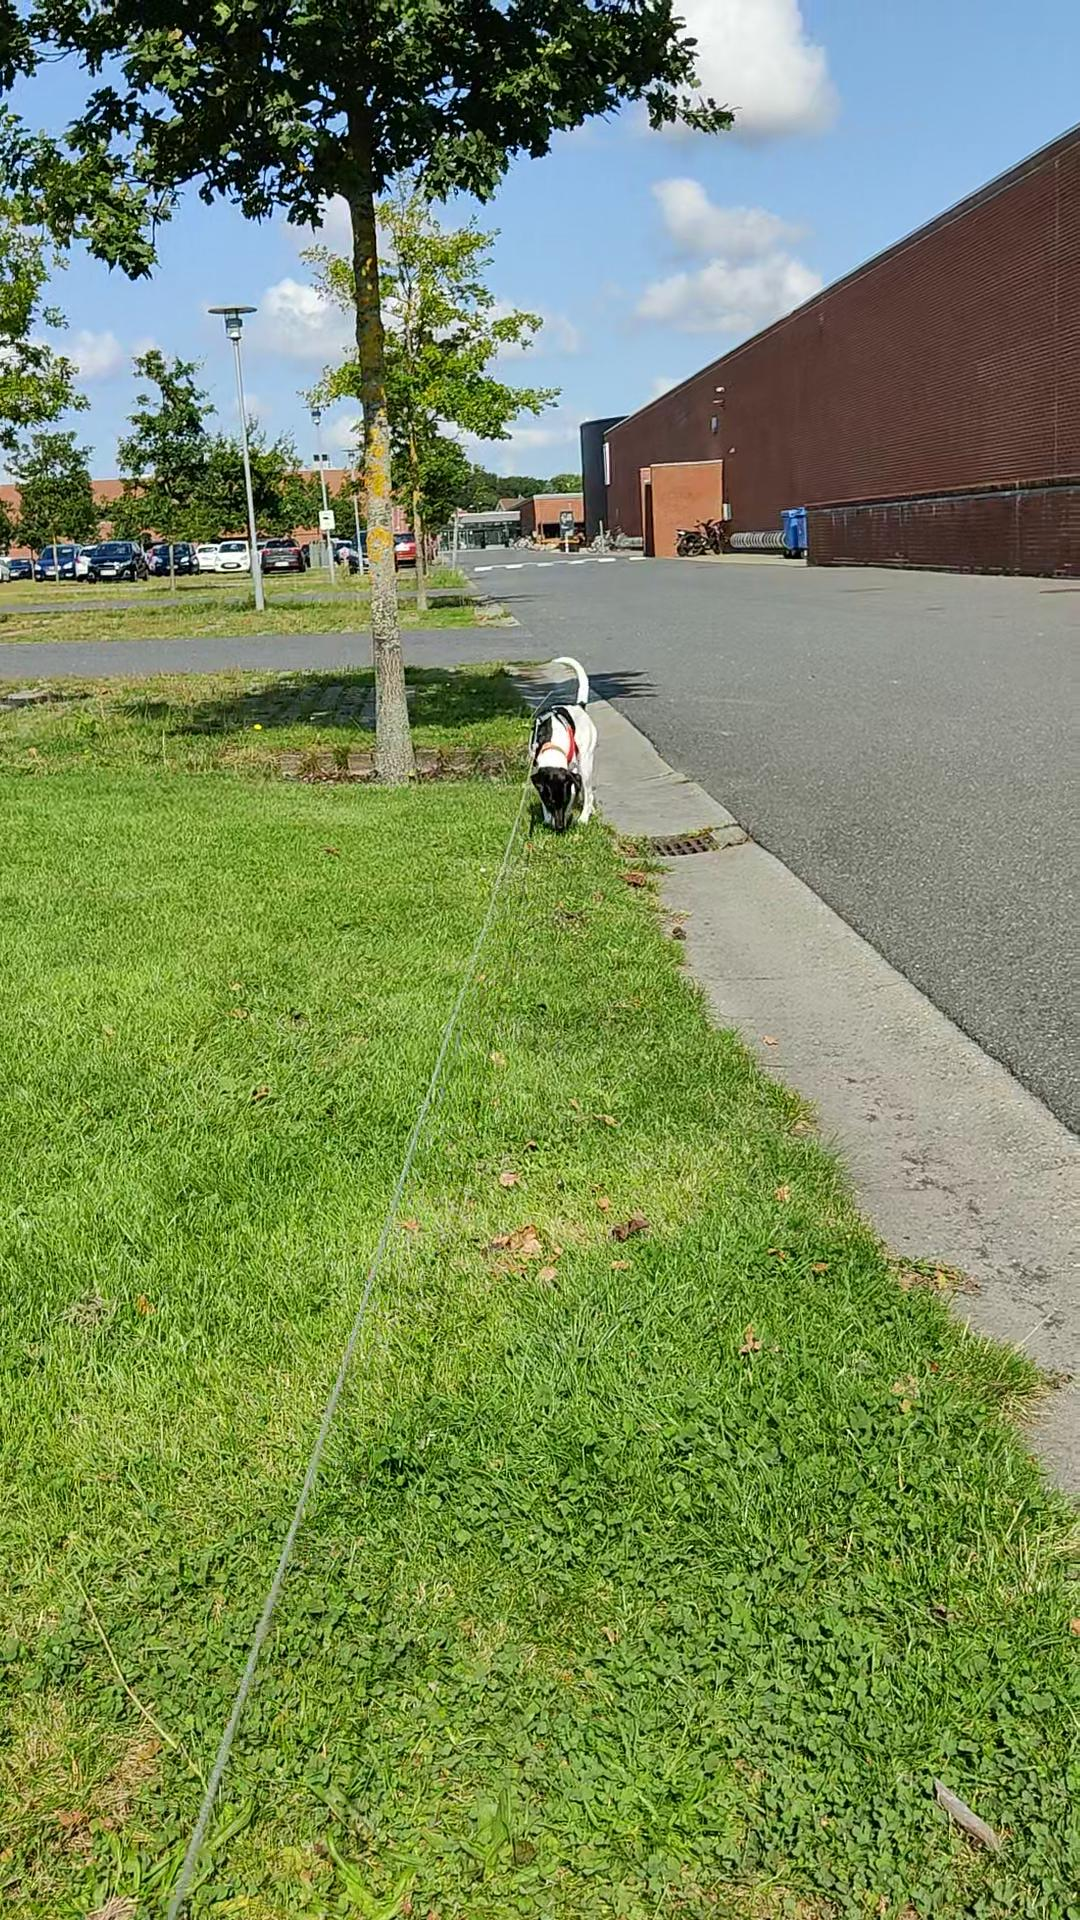Dog: (524, 651, 599, 835)
